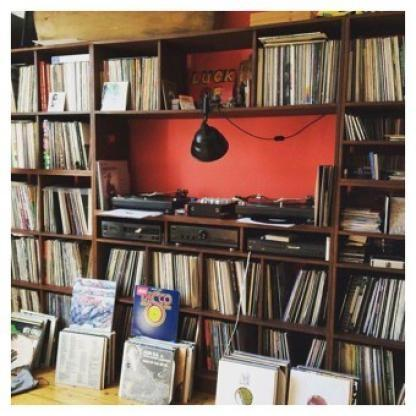Rak: (2, 11, 404, 349)
